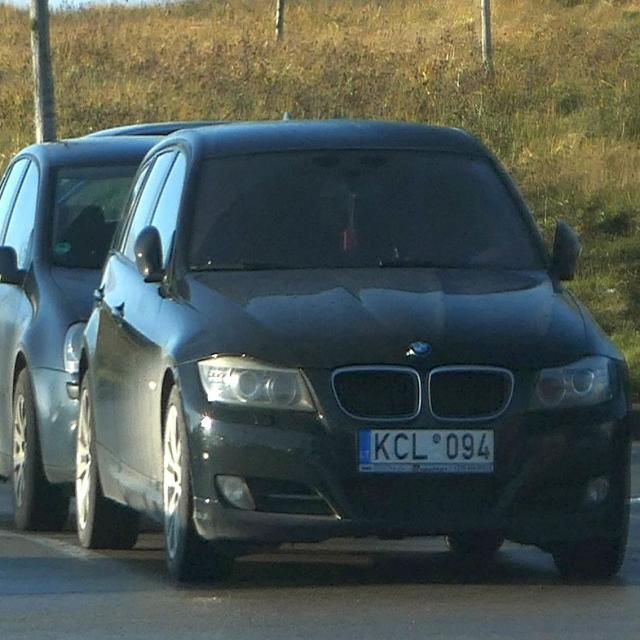License-plate: (357, 428, 494, 476)
